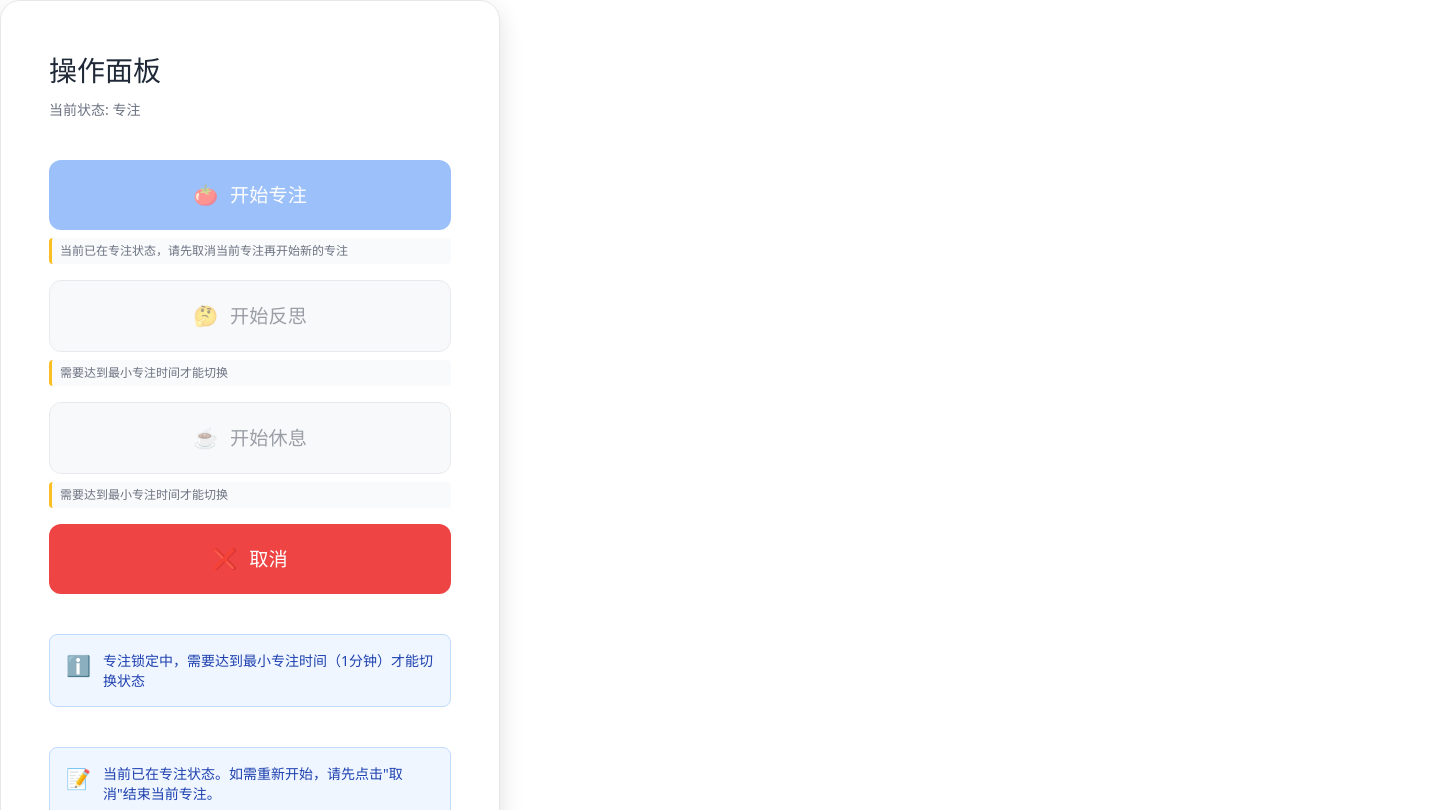
Scenario: ControlPanel › 取消操作 › 应该在专注失败时间内显示特殊确认信息
Click the text "取消". click: (268, 559)
box: [249,545,288,573]
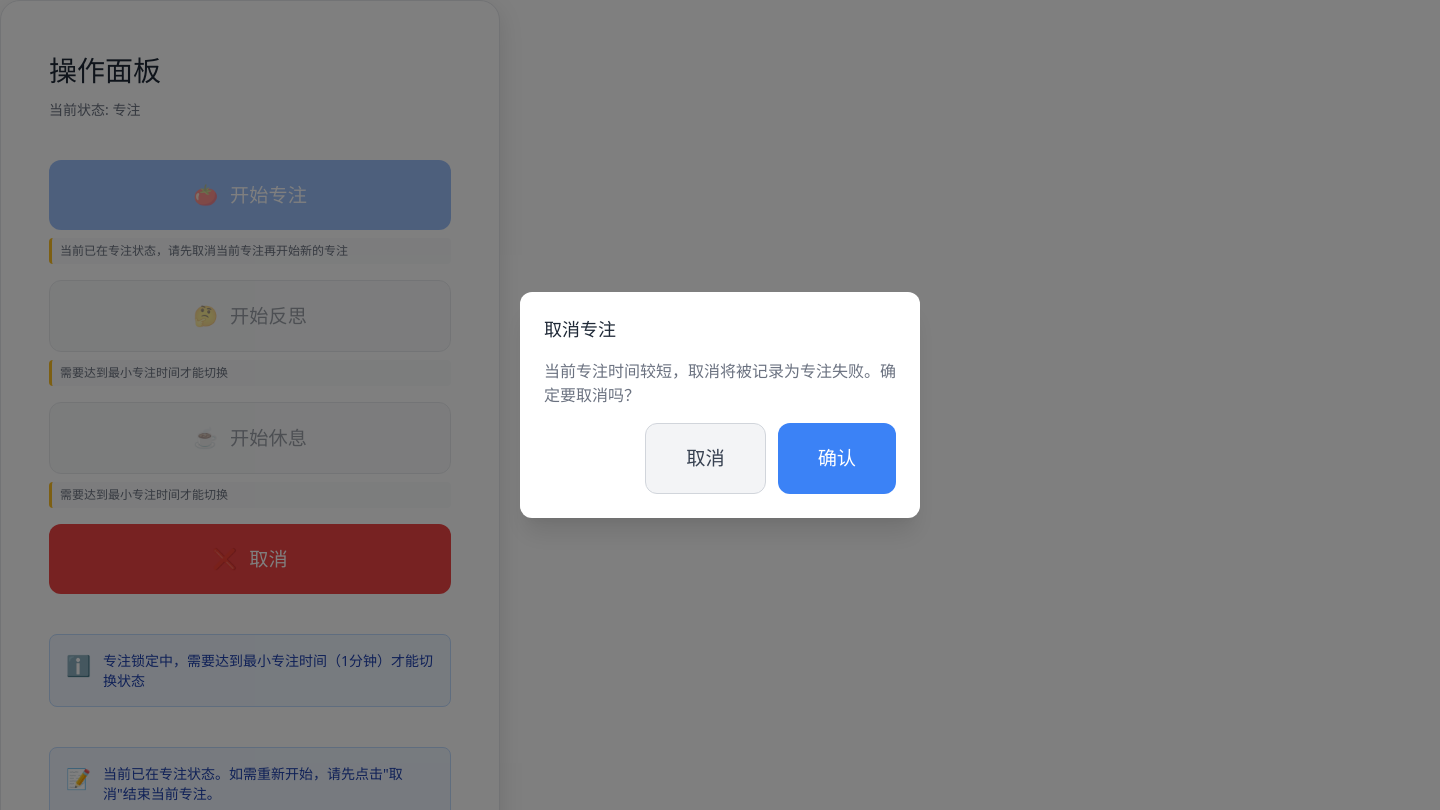
Now the heading "取消专注" is shown, box [544,317,616,341]
Now the text "当前专注时间较短，取消将被记录为专注失败。确定要取消吗？" is shown, box [544,359,896,407]
